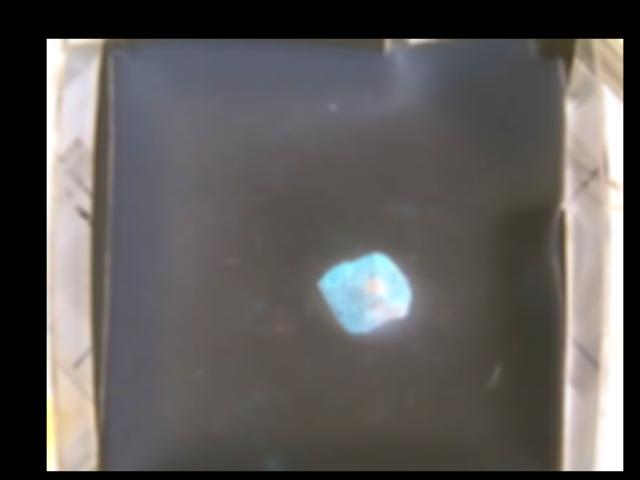Brisk: (316, 248, 413, 332)
